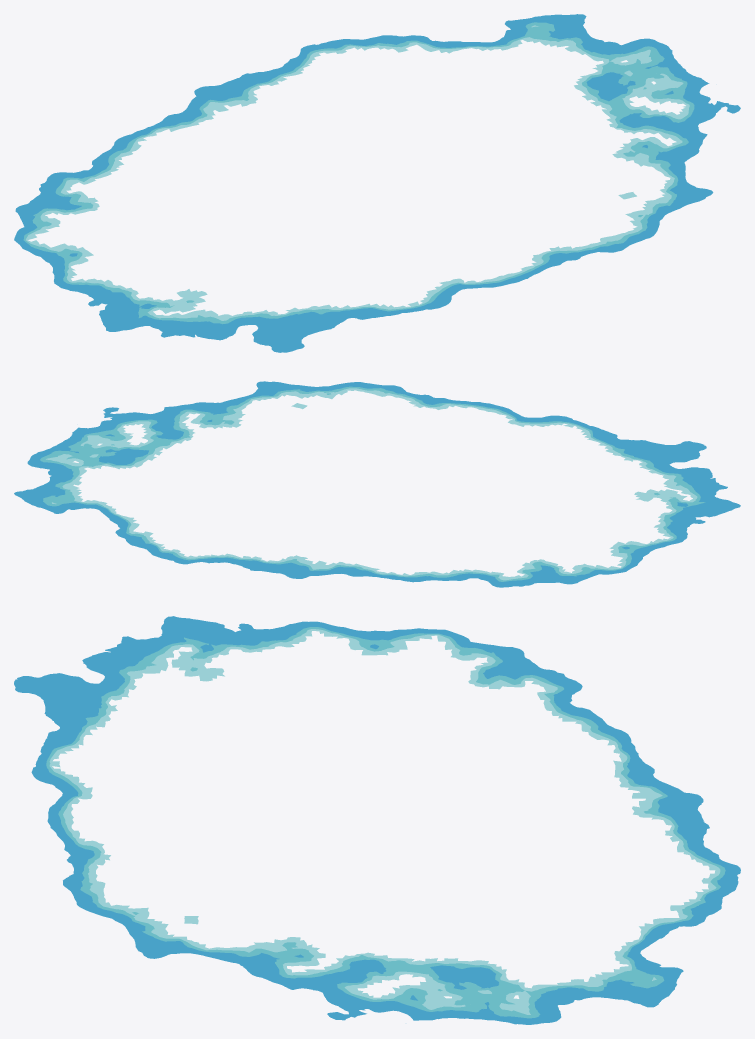
File: Isl-bot3-Water.fbx
3 renders of one model, top to bottom at view 1: azimuth 30°, elevation 25°; view 2: azimuth 150°, elevation 25°; view 3: azimuth 270°, elevation 25°, orthographic. The views are drawn at different scales.
Parts seen in each view (by area): view 1: Isl-bot3-Water; view 2: Isl-bot3-Water; view 3: Isl-bot3-Water.
Boxes of the visible parts, bbox=[...] form: Isl-bot3-Water: bbox=[14, 14, 740, 352]; Isl-bot3-Water: bbox=[14, 381, 740, 587]; Isl-bot3-Water: bbox=[14, 616, 740, 1024].
Bounding box in the file's own units: 153 × 0 × 115.
